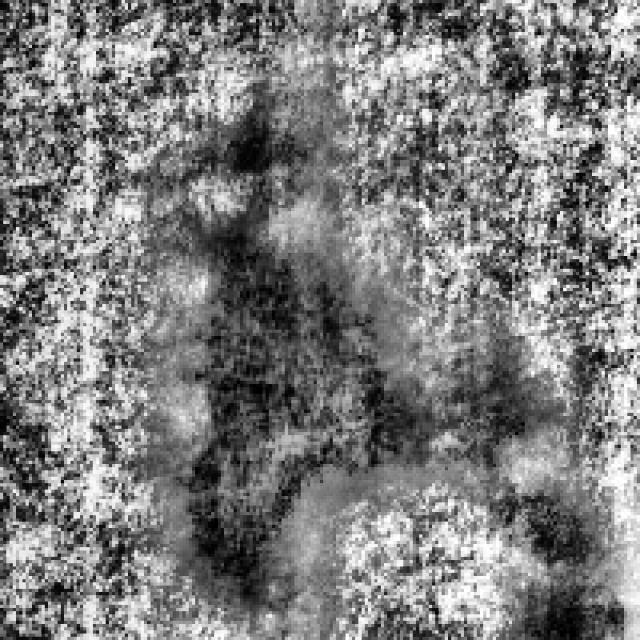Scratches: (182, 198, 413, 589), (436, 330, 602, 560)
